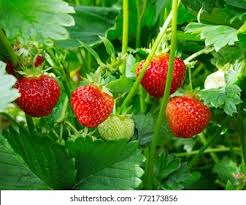ripe: (14, 66, 63, 122), (135, 50, 188, 99), (160, 94, 215, 140), (71, 79, 114, 133)
unripe: (92, 113, 137, 147)
